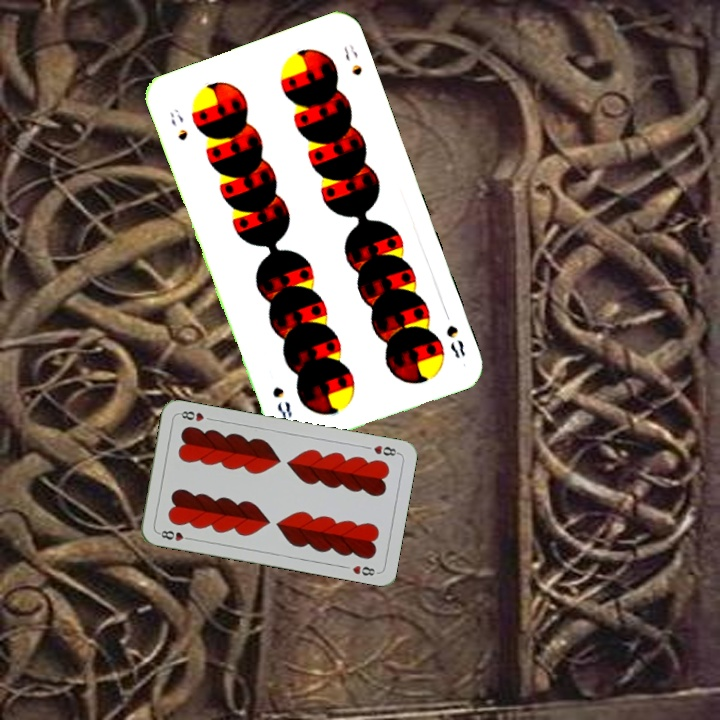H8: (154, 526, 195, 544), (370, 441, 402, 459)
S8: (442, 321, 468, 361), (165, 104, 190, 144)
